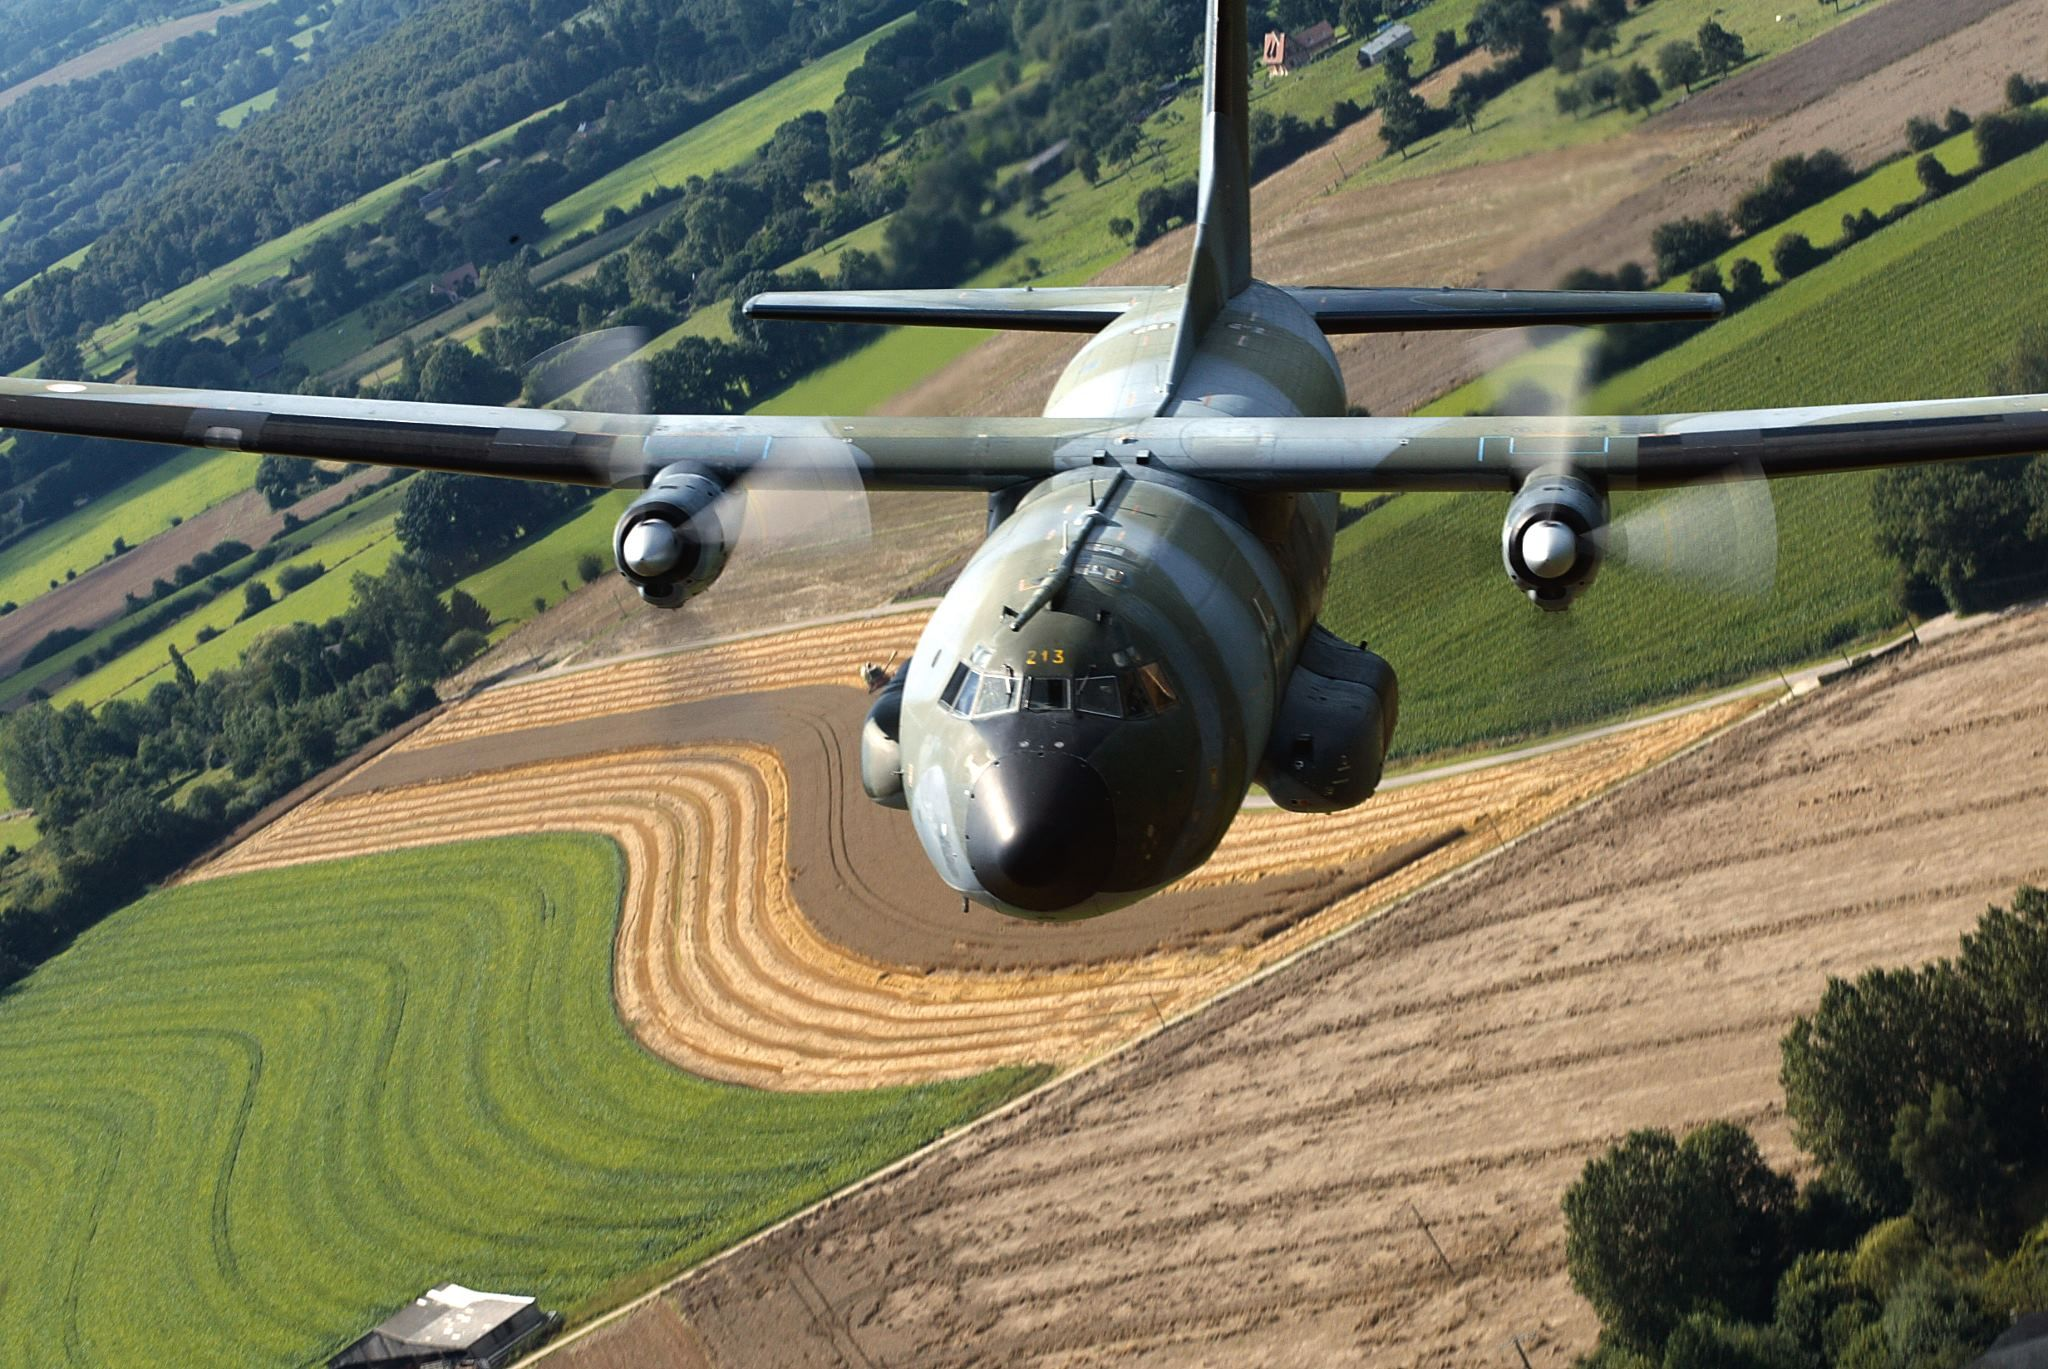Aeronef_militaire: (2, 5, 2048, 952)
